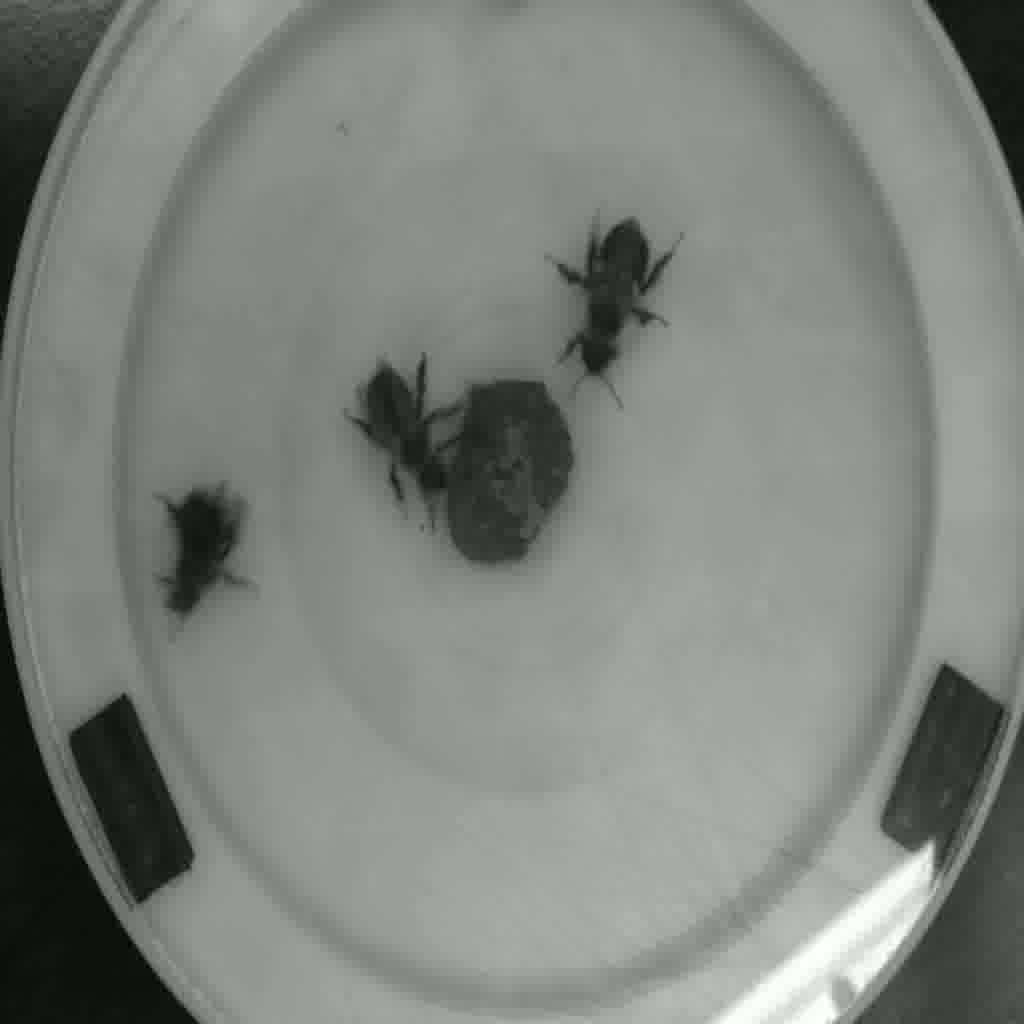bee: (342, 364, 484, 531), (561, 211, 656, 394), (146, 491, 253, 645)
